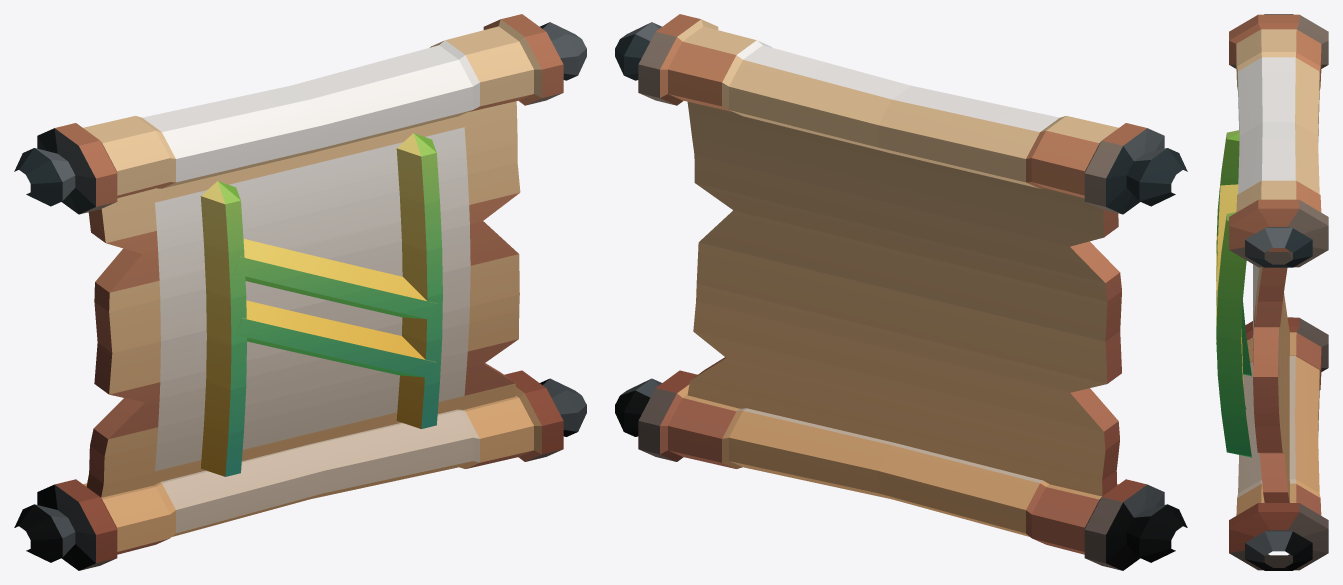
File: source.glb
The picture shows the model from 3 angles, left to right: view 1: azimuth 30°, elevation 25°; view 2: azimuth 150°, elevation 25°; view 3: azimuth 270°, elevation 25°; orthographic projection. The views are drawn at different scales.
Parts seen in each view (by area): view 1: model; view 2: model; view 3: model.
Part boxes in pixels (x1,y1,x2,y2): model: (14, 14, 586, 570); model: (615, 14, 1187, 570); model: (1216, 14, 1328, 570).
Size of the model in its own units: 0.88 by 0.64 by 0.18.
1 material, 1 textured.
